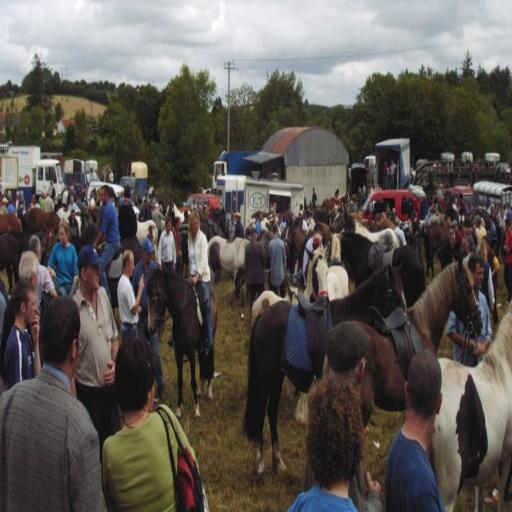horse: (206, 190, 512, 511), (0, 202, 159, 324), (142, 264, 218, 422)
